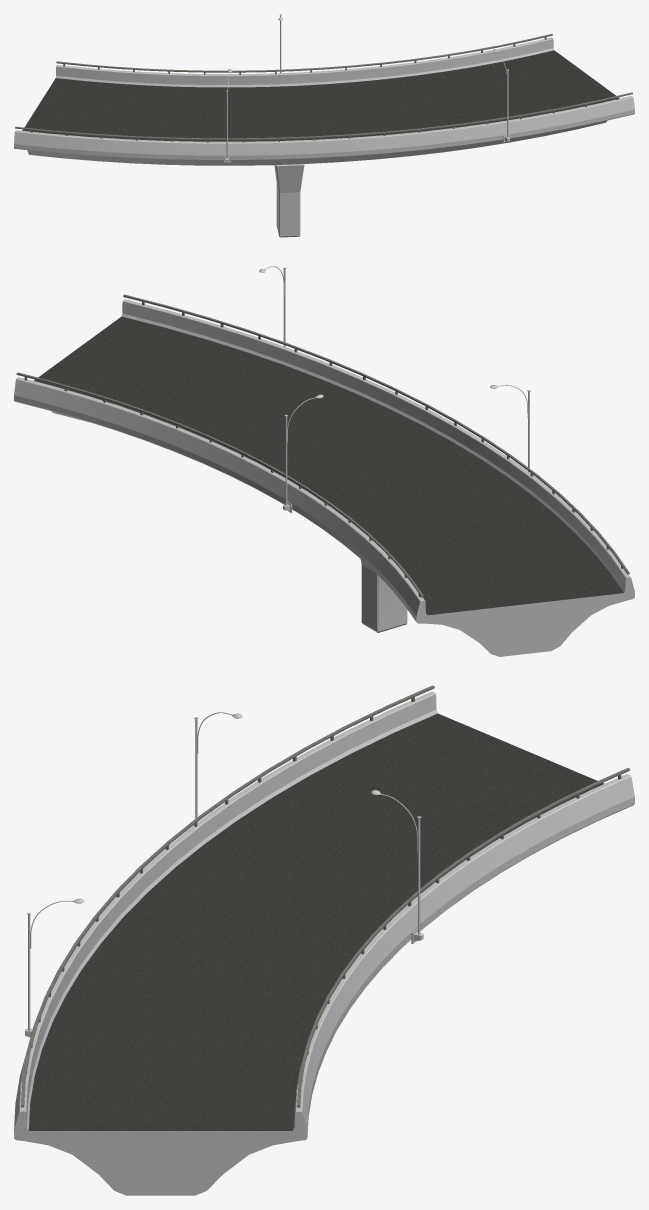
The model's file is CIV_HW_offramp_turn45_01.fbx.
3 renders of one model, top to bottom at view 1: azimuth 30°, elevation 25°; view 2: azimuth 150°, elevation 25°; view 3: azimuth 270°, elevation 25°, orthographic. The views are drawn at different scales.
Parts seen in each view (by area): view 1: CIV_HW_offramp_turn45_01; view 2: CIV_HW_offramp_turn45_01; view 3: CIV_HW_offramp_turn45_01.
Part boxes in pixels (x1,y1,x2,y2): CIV_HW_offramp_turn45_01: (14,14,634,237); CIV_HW_offramp_turn45_01: (14,266,634,656); CIV_HW_offramp_turn45_01: (14,685,634,1195).
Size of the model in its own units: 4070 by 1458 by 2530.
